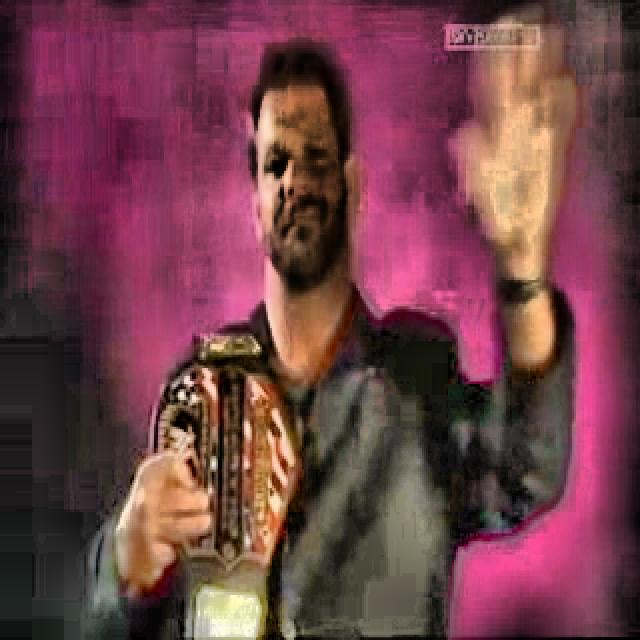L: (86, 32, 574, 638)
